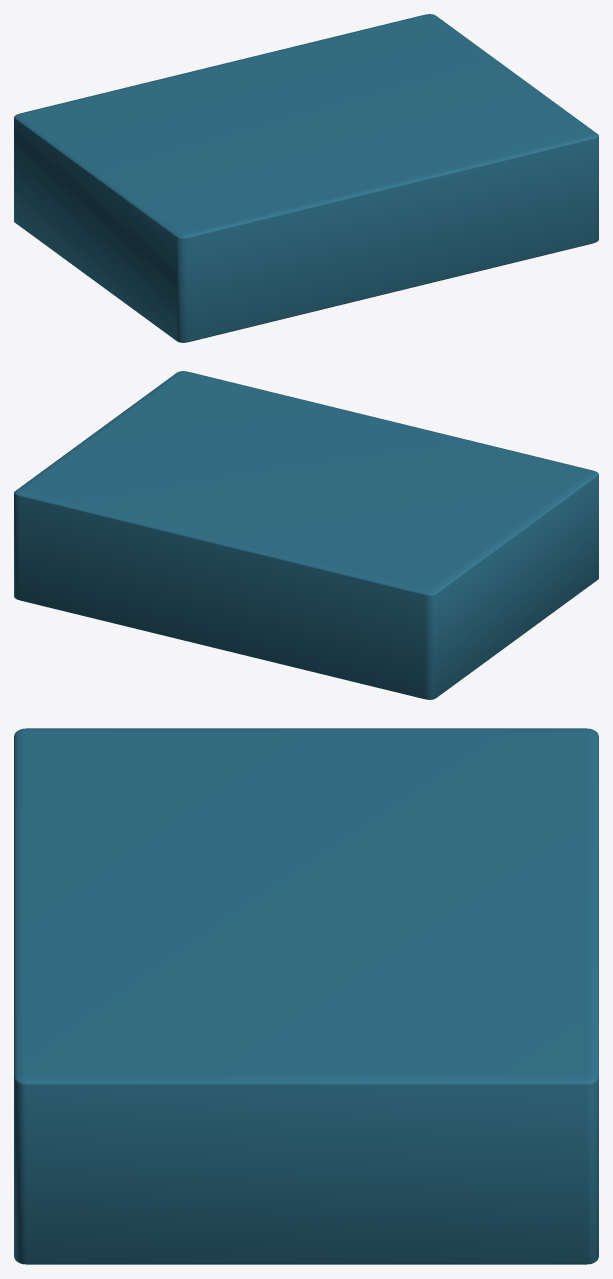
The model's file is FotobluhBoxSofa.fbx.
The picture shows the model from 3 angles, top to bottom: view 1: azimuth 30°, elevation 25°; view 2: azimuth 150°, elevation 25°; view 3: azimuth 270°, elevation 25°; orthographic projection. The views are drawn at different scales.
Parts seen in each view (by area): view 1: Cube; view 2: Cube; view 3: Cube.
Boxes of the visible parts, bbox=[...] form: Cube: bbox=[14, 14, 598, 342]; Cube: bbox=[14, 371, 598, 699]; Cube: bbox=[14, 728, 598, 1264].
Bounding box in the file's own units: 270 × 66.14 × 188.
